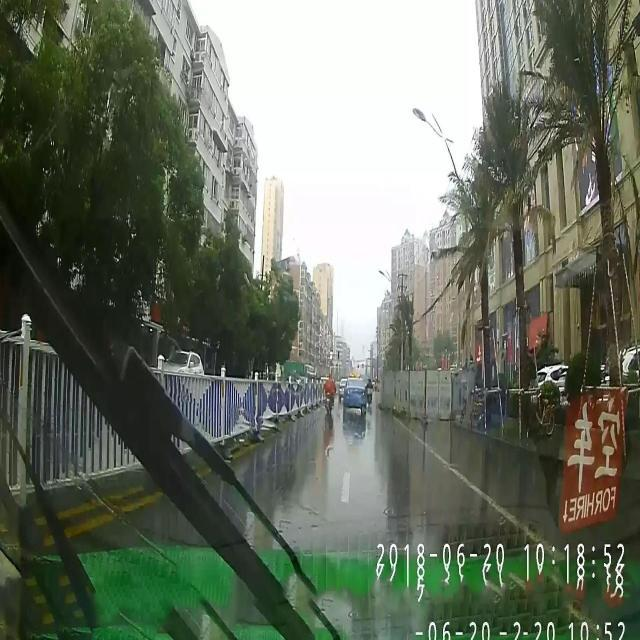car: (343, 376, 369, 420)
